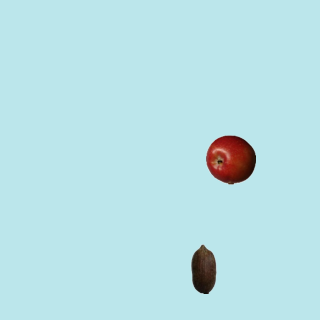Apple Braeburn: (205, 134, 255, 184)
Nut Pecan: (178, 243, 228, 293)
